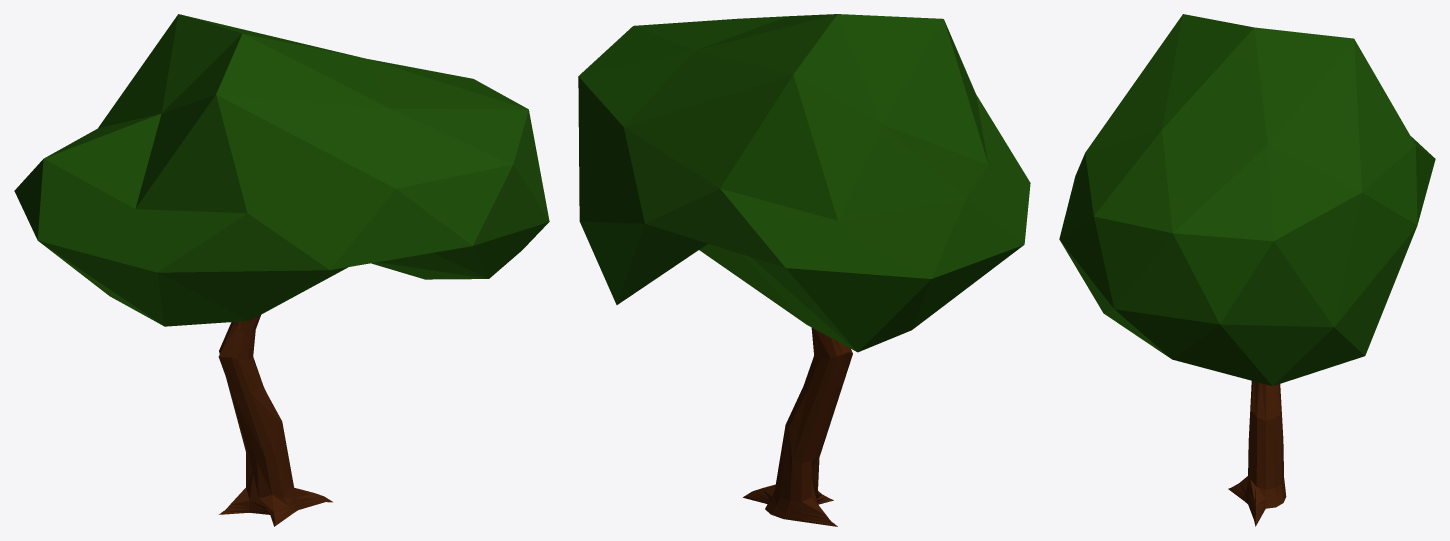
File: arbol3.glb
The picture shows the model from 3 angles, left to right: view 1: azimuth 30°, elevation 25°; view 2: azimuth 150°, elevation 25°; view 3: azimuth 270°, elevation 25°; orthographic projection. The views are drawn at different scales.
Parts seen in each view (by area): view 1: skp5771_1001, Cylinder01001; view 2: skp5771_1001, Cylinder01001; view 3: skp5771_1001, Cylinder01001.
Part boxes in pixels (<box>): skp5771_1001: <box>14,14,549,326</box>; Cylinder01001: <box>218,315,332,526</box>; skp5771_1001: <box>578,14,1030,352</box>; Cylinder01001: <box>743,328,852,526</box>; skp5771_1001: <box>1059,14,1435,386</box>; Cylinder01001: <box>1228,381,1286,526</box>.
Bounding box in the file's own units: 2605 × 2670 × 1990.
